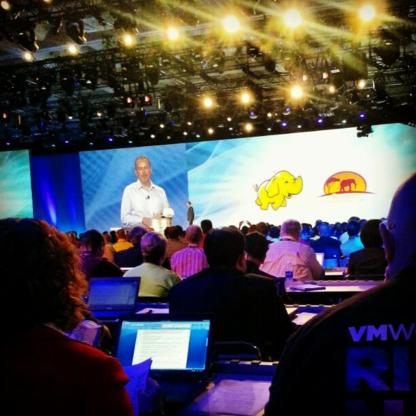board: (114, 317, 220, 398), (87, 275, 142, 323), (315, 252, 324, 266)
